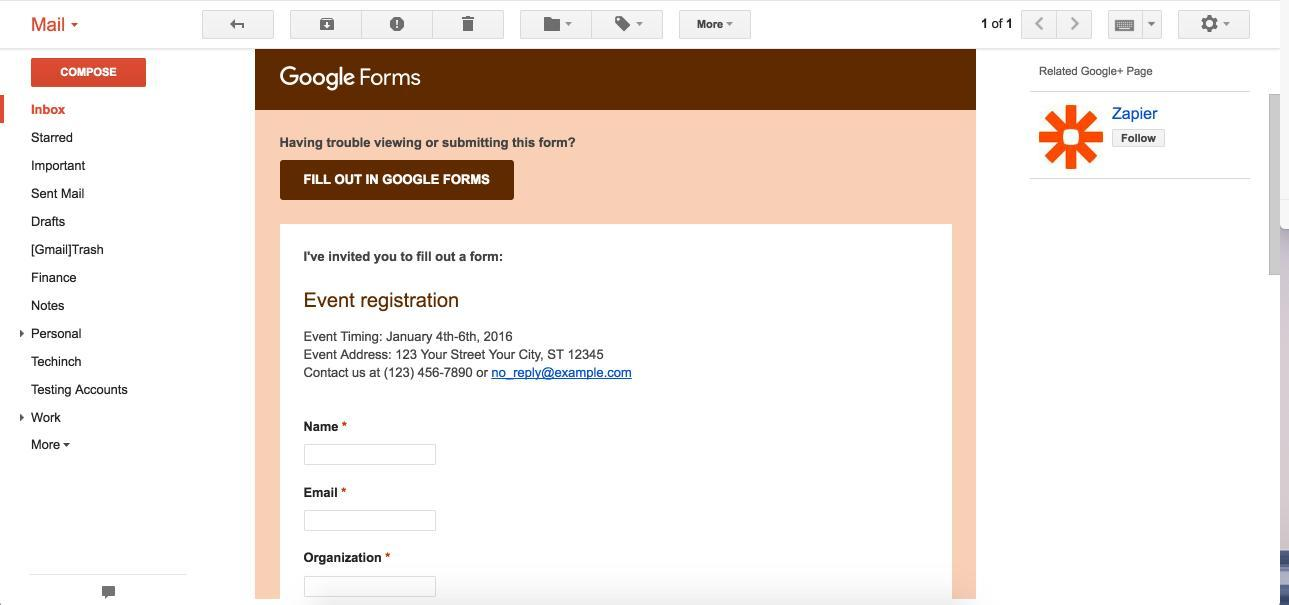button: (280, 160, 515, 200), (32, 58, 148, 88), (363, 10, 434, 40), (1024, 11, 1093, 41), (291, 11, 362, 40), (203, 11, 275, 39), (434, 12, 503, 41), (679, 12, 752, 38), (1113, 130, 1166, 147)
dropdown: (1179, 11, 1251, 40), (1109, 11, 1163, 40), (29, 12, 83, 40)
icon: (540, 11, 564, 38), (613, 14, 634, 34)
input: (306, 445, 437, 466), (305, 511, 436, 532), (305, 578, 436, 597)
label: (305, 550, 395, 569), (302, 485, 349, 502), (305, 418, 348, 436)
